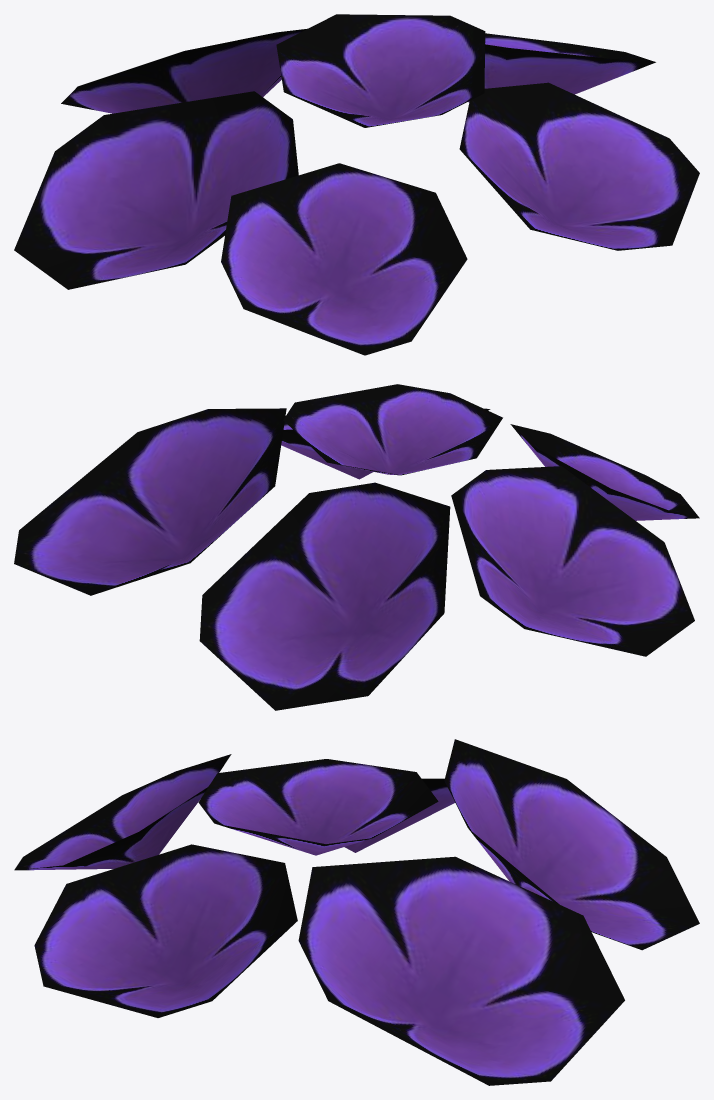
Rendered from plant_7.gltf.
3 views of the same model, one above another, from view 1: azimuth 30°, elevation 25°; view 2: azimuth 150°, elevation 25°; view 3: azimuth 270°, elevation 25° (orthographic). The views are drawn at different scales.
Parts seen in each view (by area): view 1: Plant_7; view 2: Plant_7; view 3: Plant_7.
Part boxes in pixels (x1,y1,x2,y2): Plant_7: [14, 14, 699, 355]; Plant_7: [14, 384, 699, 710]; Plant_7: [14, 739, 699, 1085].
Size of the model in its own units: 1.05 by 0.2495 by 0.9621.
1 material, 1 textured.
